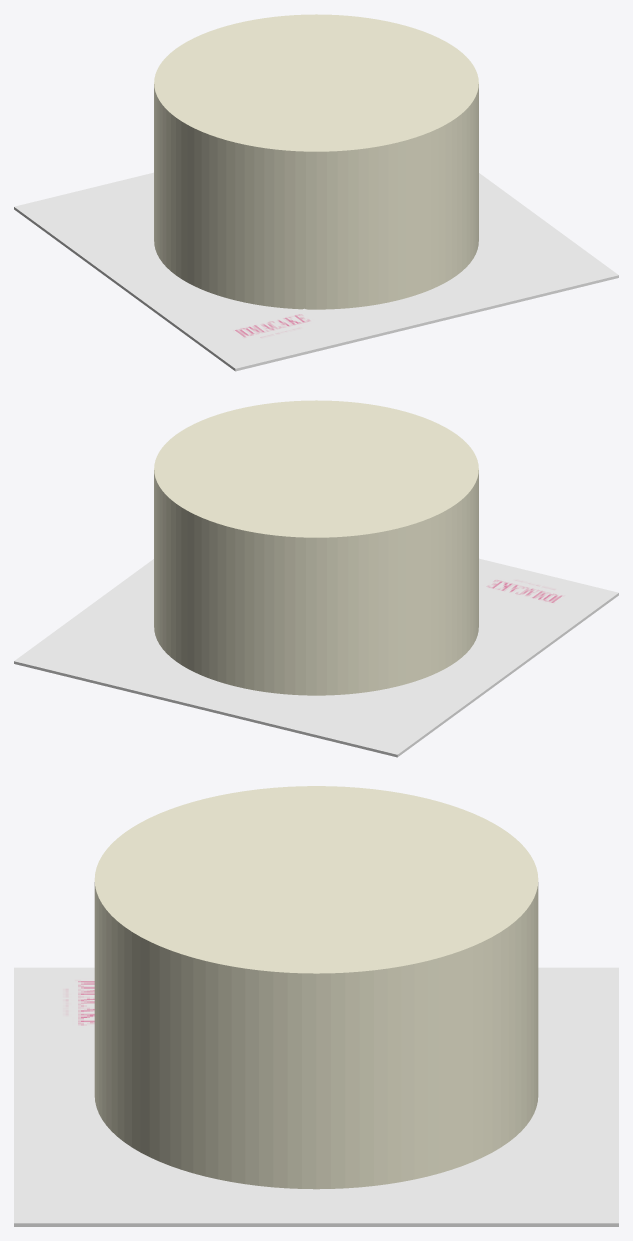
Rendered from cake_4in_layers2_v33.glb.
The picture shows the model from 3 angles, top to bottom: view 1: azimuth 30°, elevation 25°; view 2: azimuth 150°, elevation 25°; view 3: azimuth 270°, elevation 25°; orthographic projection. The views are drawn at different scales.
Parts seen in each view (by area): view 1: Cake, Board, Logo; view 2: Cake, Board, Logo; view 3: Cake, Board, Logo.
Part boxes in pixels (x1,y1,x2,y2): Cake: (154,14,478,309); Board: (14,172,618,371); Logo: (221,308,329,347); Cake: (154,400,478,695); Board: (14,558,618,757); Logo: (479,570,582,608); Cake: (94,786,538,1189); Board: (14,967,618,1226); Logo: (50,974,94,1030).
Bounding box in the file's own units: 0.15 × 0.06 × 0.15.
